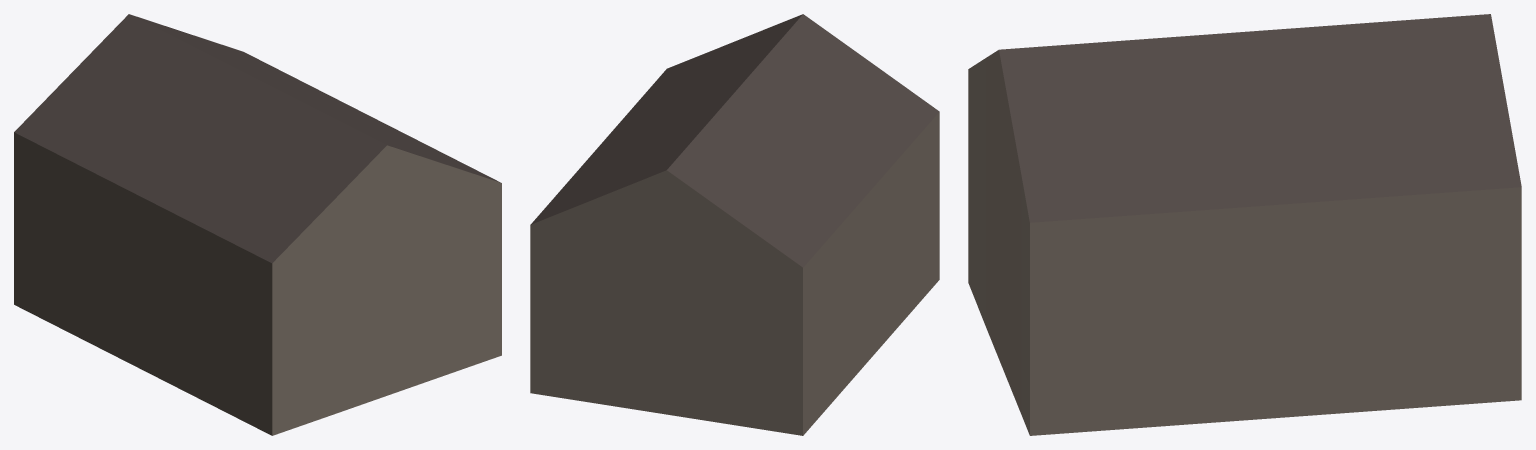
3 renders of one model, left to right at view 1: azimuth 30°, elevation 25°; view 2: azimuth 150°, elevation 25°; view 3: azimuth 270°, elevation 25°, orthographic. The views are drawn at different scales.
Parts seen in each view (by area): view 1: HP-w1376988690; view 2: HP-w1376988690; view 3: HP-w1376988690.
Part boxes in pixels (<box>): HP-w1376988690: <box>14,14,501,435</box>; HP-w1376988690: <box>530,14,939,435</box>; HP-w1376988690: <box>968,14,1521,435</box>.
Size of the model in its own units: 11.42 by 8.71 by 14.13.
